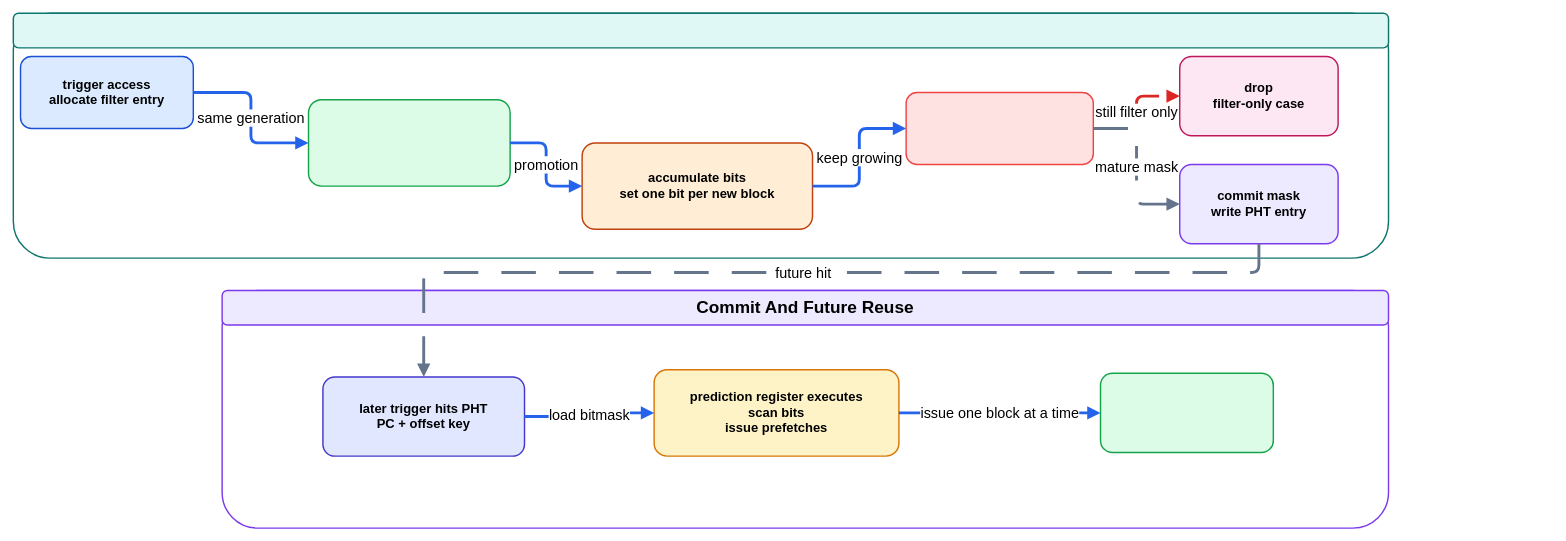
Some shapes in this 1566 by 541 pixel diagram are drawn without their labels. The shapes that lost their labels are listed below. From the top down, each one's box as (x1, y1, x2, y2) in pixels, then its label:
(12, 12, 1389, 48): Live Generation
(307, 99, 510, 186): second distinct block promote to accumulation
(905, 91, 1094, 165): generation end eviction / invalidation
(1099, 372, 1274, 453): prefetch stream region-local blocks
